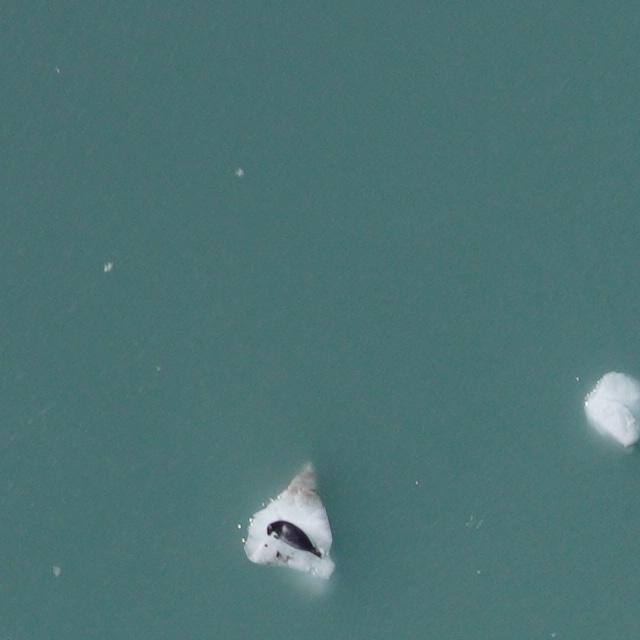seal: (263, 513, 330, 560)
